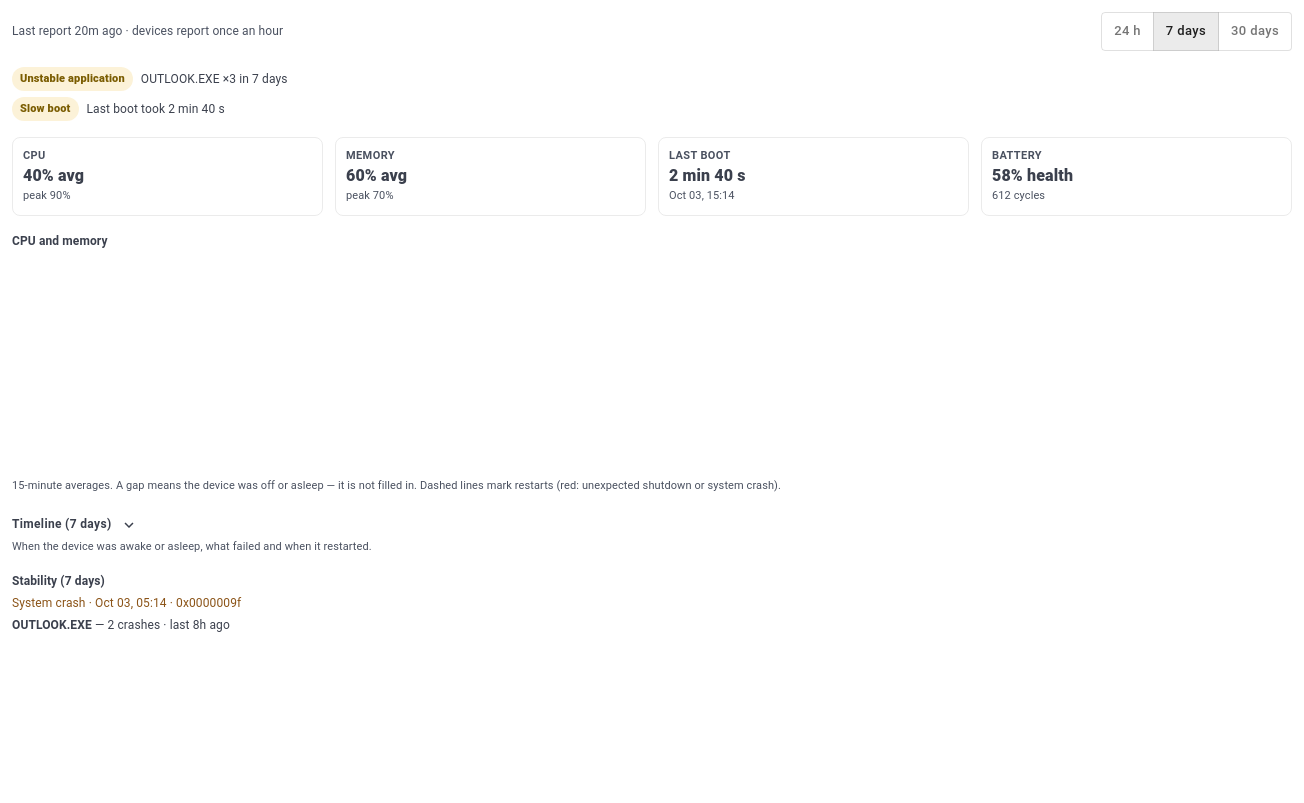
ExperienceTab › la cronología empieza PLEGADA y se abre con su botón
Expected: the text "what failed and when it restarted" is shown, 12,540 -> 372,553
Click the button "Timeline (7 days)": [74, 525] box 12,510 -> 136,539
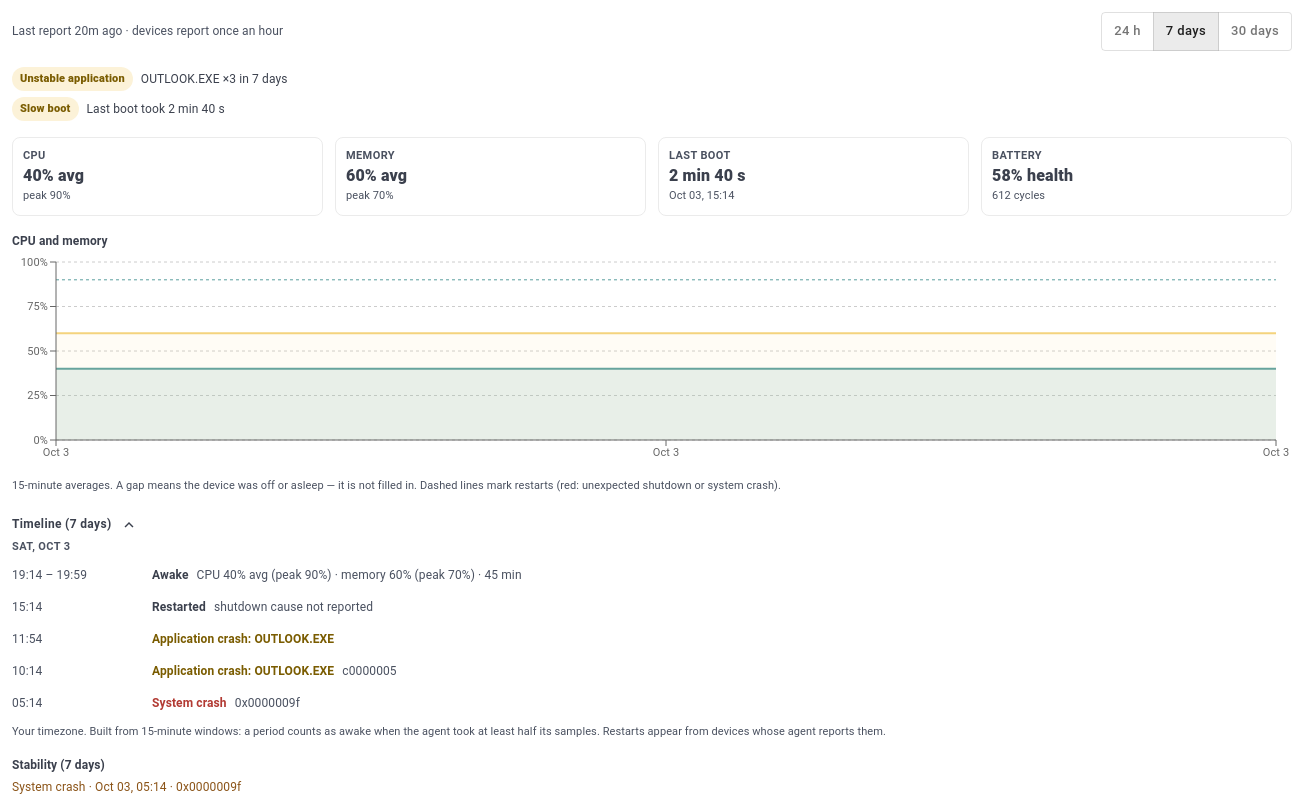
Now the element with test id "dex-timeline" is shown, box 12,540 -> 886,738
Now the button "Timeline (7 days)" is expanded, box 12,510 -> 136,539
